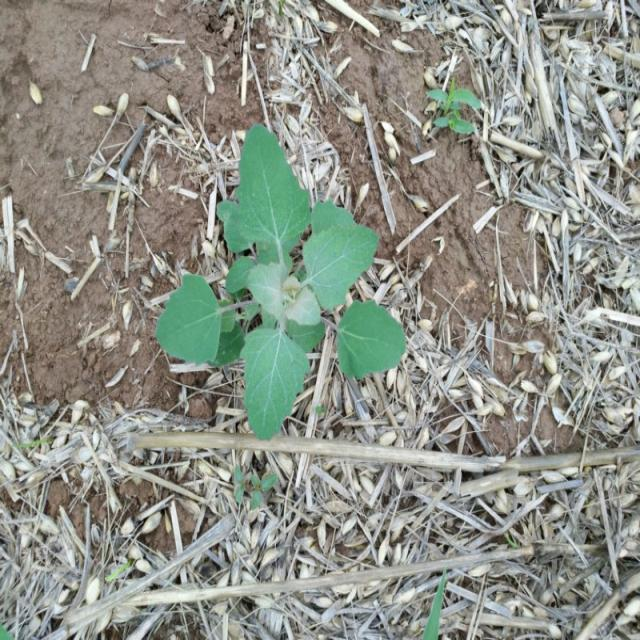goosefoots: (138, 124, 416, 447)
